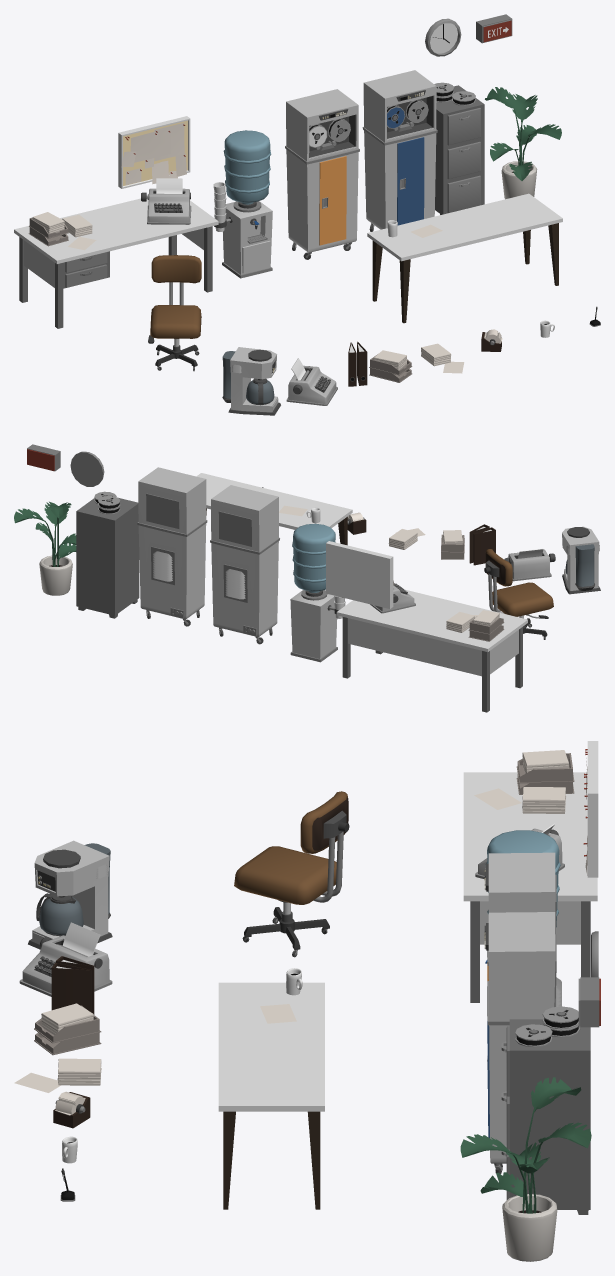
File: 60's office stuff exporter.fbx
The picture shows the model from 3 angles, top to bottom: view 1: azimuth 30°, elevation 25°; view 2: azimuth 150°, elevation 25°; view 3: azimuth 270°, elevation 25°; orthographic projection. The views are drawn at different scales.
Visible parts, largest first — view 1: Cube.022, Cube.000, Cube.016, Cube.020, Cube.023, Cube.003, Cube.11647, Cube.004, Cube.015, Cylinder.003, Cube.007, Cube (+2 smaller); view 2: Cube.016, Cube.000, Cube.022, Cube.003, Cube.023, Cube.11647, Cube.004, Cube.020, Cylinder.003, Cube.015, Cube, Cylinder (+6 smaller); view 3: Cube.020, Cube.003, Cube.016, Cube.000, Cube.004, Cylinder.003, Cube.015, Cube.022, Cube, Cube.11647, Cube.001, Cube.023 (+11 smaller).
Part boxes in pixels (bbox=[...]): Cube.022: bbox=[285, 89, 359, 259]; Cube.000: bbox=[362, 70, 437, 231]; Cube.016: bbox=[14, 198, 218, 328]; Cube.020: bbox=[367, 193, 562, 323]; Cube.023: bbox=[213, 130, 272, 278]; Cube.003: bbox=[435, 85, 484, 214]; Cube.11647: bbox=[118, 116, 190, 188]; Cube.004: bbox=[148, 255, 201, 371]; Cube.015: bbox=[222, 347, 280, 415]; Cylinder.003: bbox=[485, 87, 561, 199]; Cube.007: bbox=[141, 178, 191, 224]; Cube: bbox=[286, 358, 337, 405]; Cube.016: bbox=[336, 589, 527, 712]; Cube.000: bbox=[137, 467, 207, 626]; Cube.022: bbox=[210, 485, 279, 644]; Cube.003: bbox=[76, 497, 139, 618]; Cube.023: bbox=[290, 523, 345, 662]; Cube.11647: bbox=[326, 541, 394, 608]; Cube.004: bbox=[484, 549, 553, 639]; Cube.020: bbox=[196, 473, 352, 545]; Cylinder.003: bbox=[14, 501, 76, 595]; Cube.015: bbox=[562, 526, 600, 594]; Cube: bbox=[504, 548, 555, 581]; Cylinder: bbox=[70, 451, 104, 486]; Cube.020: bbox=[218, 982, 324, 1209]; Cube.003: bbox=[501, 1019, 590, 1214]; Cube.016: bbox=[463, 772, 597, 1002]; Cube.000: bbox=[484, 912, 556, 1173]; Cube.004: bbox=[234, 791, 349, 957]; Cylinder.003: bbox=[460, 1077, 591, 1261]; Cube.015: bbox=[28, 840, 112, 949]; Cube.022: bbox=[484, 852, 561, 1006]; Cube: bbox=[19, 922, 112, 996]; Cube.11647: bbox=[583, 741, 598, 877]; Cube.001: bbox=[51, 962, 91, 1012]; Cube.023: bbox=[485, 830, 560, 963].
Bounding box in the file's own units: 806 × 272 × 510.
